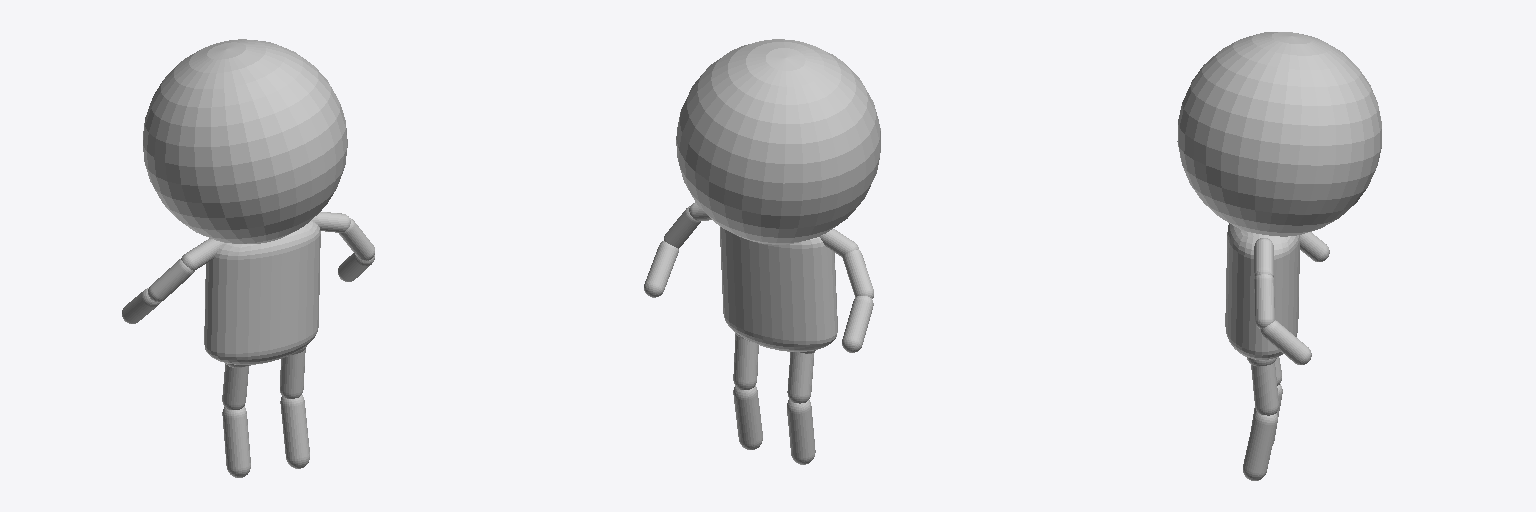
File: Stickman_000084.obj
3 renders of one model, left to right at view 1: azimuth 30°, elevation 25°; view 2: azimuth 150°, elevation 25°; view 3: azimuth 270°, elevation 25°, orthographic.
Parts seen in each view (by area): view 1: Head_Sphere.001, Body_Roundcube.002, LowerLegLeft_Roundcube.013, LowerLegRight_Roundcube.011, UpperLegLeft_Roundcube.012, UpperLegRight_Roundcube.010, UpperArmRight_Roundcube.015, UpperArmLeft_Roundcube.018, ShoulderRight_Roundcube.014, LowerArmRight_Roundcube.016, ShoulderLeft_Roundcube.017, LowerArmLeft_Roundcube.019; view 2: Head_Sphere.001, Body_Roundcube.002, LowerLegRight_Roundcube.011, LowerLegLeft_Roundcube.013, UpperLegRight_Roundcube.010, UpperLegLeft_Roundcube.012, LowerArmRight_Roundcube.016, LowerArmLeft_Roundcube.019, UpperArmRight_Roundcube.015, UpperArmLeft_Roundcube.018, ShoulderRight_Roundcube.014; view 3: Head_Sphere.001, Body_Roundcube.002, LowerLegLeft_Roundcube.013, UpperLegLeft_Roundcube.012, LowerArmLeft_Roundcube.019, UpperArmLeft_Roundcube.018, ShoulderLeft_Roundcube.017, LowerArmRight_Roundcube.016.
Part boxes in pixels (bbox=[...]): Head_Sphere.001: bbox=[143, 39, 347, 243]; Body_Roundcube.002: bbox=[204, 220, 320, 364]; LowerLegLeft_Roundcube.013: bbox=[280, 395, 309, 468]; LowerLegRight_Roundcube.011: bbox=[222, 406, 250, 477]; UpperLegLeft_Roundcube.012: bbox=[280, 349, 305, 398]; UpperLegRight_Roundcube.010: bbox=[222, 364, 248, 409]; UpperArmRight_Roundcube.015: bbox=[148, 259, 194, 301]; UpperArmLeft_Roundcube.018: bbox=[339, 218, 374, 260]; ShoulderRight_Roundcube.014: bbox=[181, 238, 223, 270]; LowerArmRight_Roundcube.016: bbox=[122, 288, 160, 323]; ShoulderLeft_Roundcube.017: bbox=[312, 212, 350, 232]; LowerArmLeft_Roundcube.019: bbox=[338, 253, 374, 281]; Head_Sphere.001: bbox=[676, 39, 880, 244]; Body_Roundcube.002: bbox=[720, 227, 837, 351]; LowerLegRight_Roundcube.011: bbox=[787, 399, 815, 464]; LowerLegLeft_Roundcube.013: bbox=[733, 385, 762, 449]; UpperLegRight_Roundcube.010: bbox=[787, 352, 814, 403]; UpperLegLeft_Roundcube.012: bbox=[733, 334, 758, 389]; LowerArmRight_Roundcube.016: bbox=[842, 296, 873, 352]; LowerArmLeft_Roundcube.019: bbox=[644, 241, 678, 297]; UpperArmRight_Roundcube.015: bbox=[843, 249, 873, 298]; UpperArmLeft_Roundcube.018: bbox=[664, 206, 700, 248]; ShoulderRight_Roundcube.014: bbox=[819, 229, 858, 257]; Head_Sphere.001: bbox=[1177, 32, 1381, 236]; Body_Roundcube.002: bbox=[1225, 223, 1299, 359]; LowerLegLeft_Roundcube.013: bbox=[1243, 411, 1277, 480]; UpperLegLeft_Roundcube.012: bbox=[1251, 362, 1278, 415]; LowerArmLeft_Roundcube.019: bbox=[1260, 320, 1311, 364]; UpperArmLeft_Roundcube.018: bbox=[1254, 274, 1274, 328]; ShoulderLeft_Roundcube.017: bbox=[1254, 238, 1273, 276]; LowerArmRight_Roundcube.016: bbox=[1300, 232, 1329, 261].
Size of the model in its own units: 7.55 by 13.38 by 5.93.